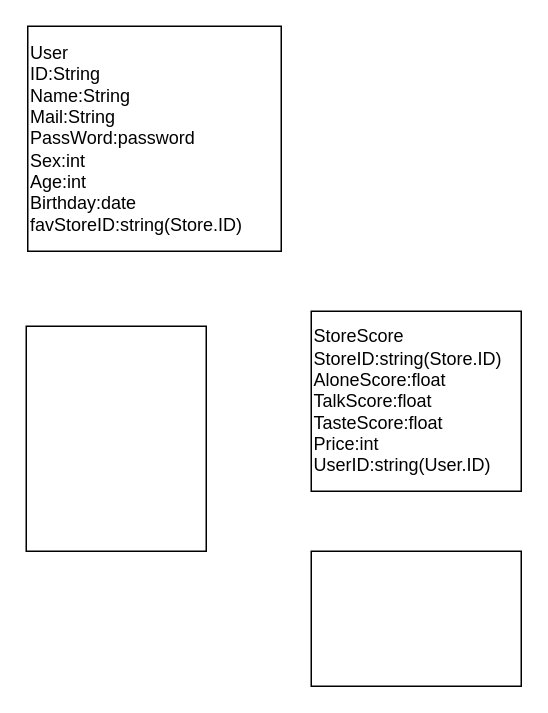
Some shapes in this 548 by 713 pixel diagram are drawn without their labels. Each missing label, with the centre of its shape:
Review Title:string Body:string StoreID:string(Store.ID): [415,618]
Store ID:string Name:string Address:string PhoneNum:int: [115,438]
